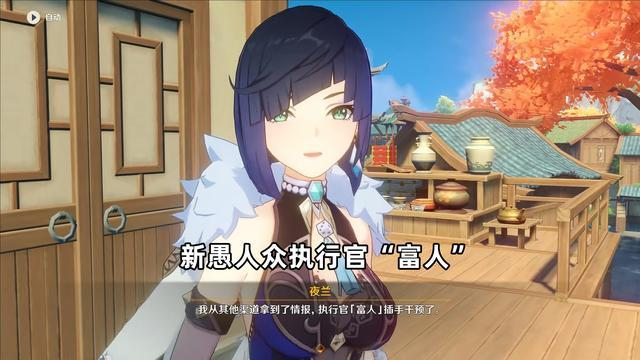夜兰: (156, 6, 421, 360)
